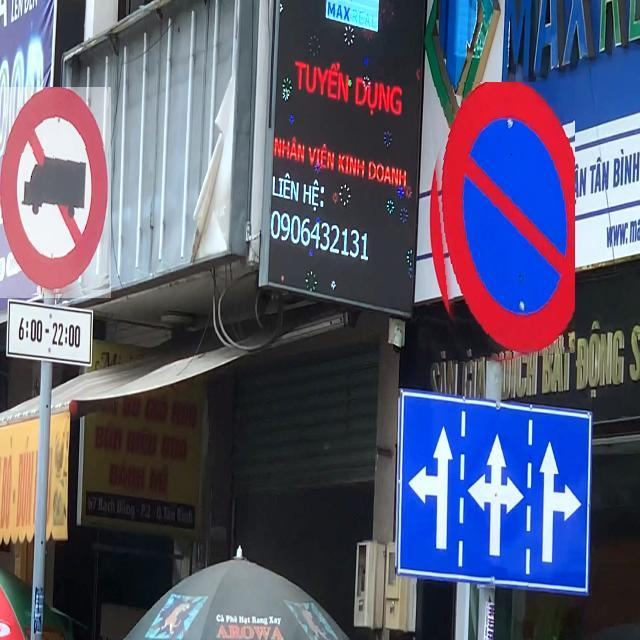P-106a: (0, 87, 111, 298)
P-131a: (427, 82, 575, 364)
